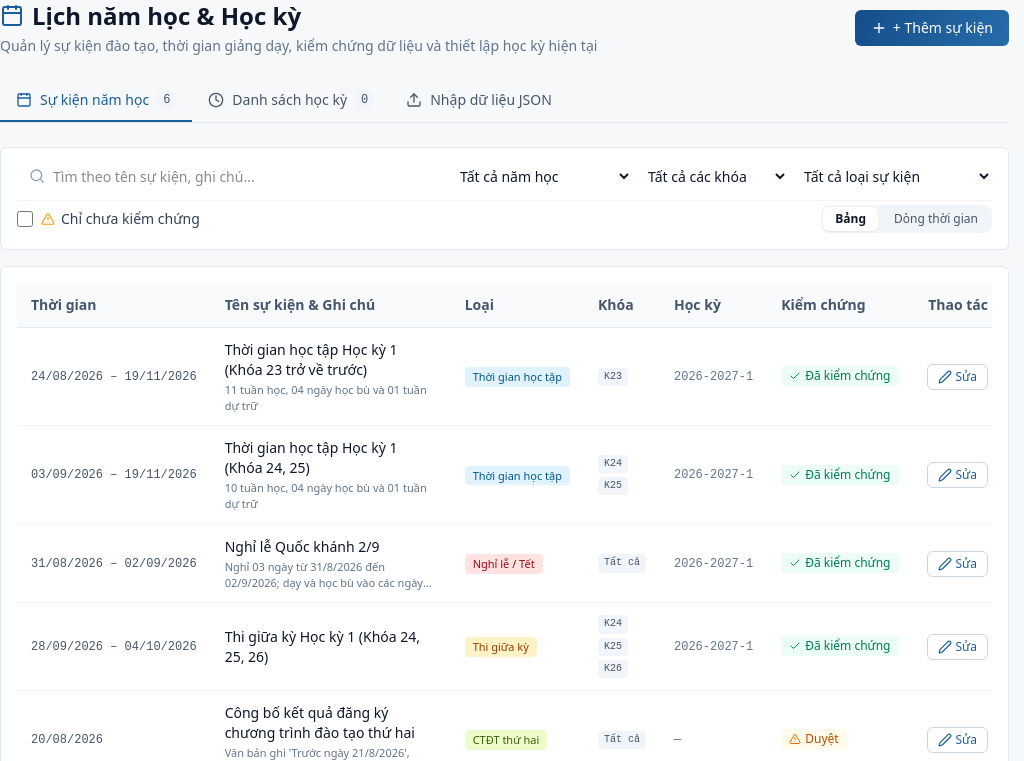
Brief A5: Quản trị Lịch năm học & Học kỳ (/admin/calendar) › 1. Tab Sự kiện năm học (Events Tab) › mở drawer Sửa sự kiện, chỉnh sửa và lưu thành công
This screenshot has width=1024, height=761.
Later steps or results of the test are not shown.
Expected: the text "Thời gian học tập Học kỳ 1 (Khóa 23 trở về trước)" is shown, [225,340,397,379]
// Bấm nút Sửa trên dòng đầu tiên
Click the button "Sửa" in the row of "24/08/2026 – 19/11/2026": (957, 377) [926,364,988,390]
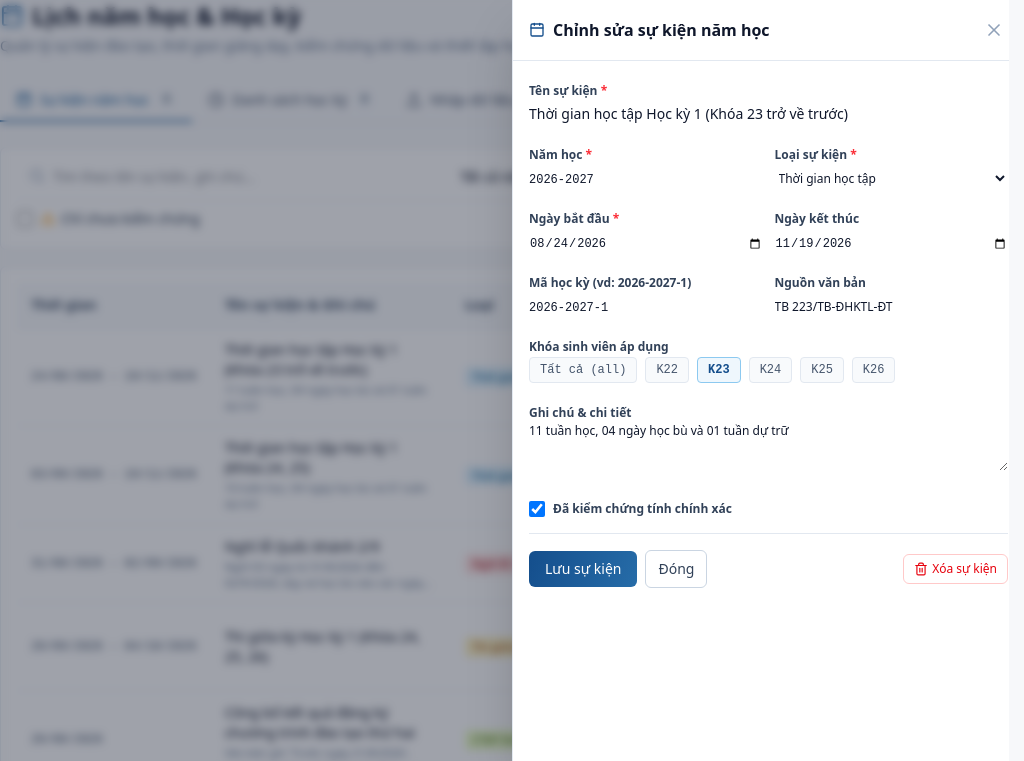
Expected: the heading "Chỉnh sửa sự kiện năm học" is shown, [529,18,770,42]
